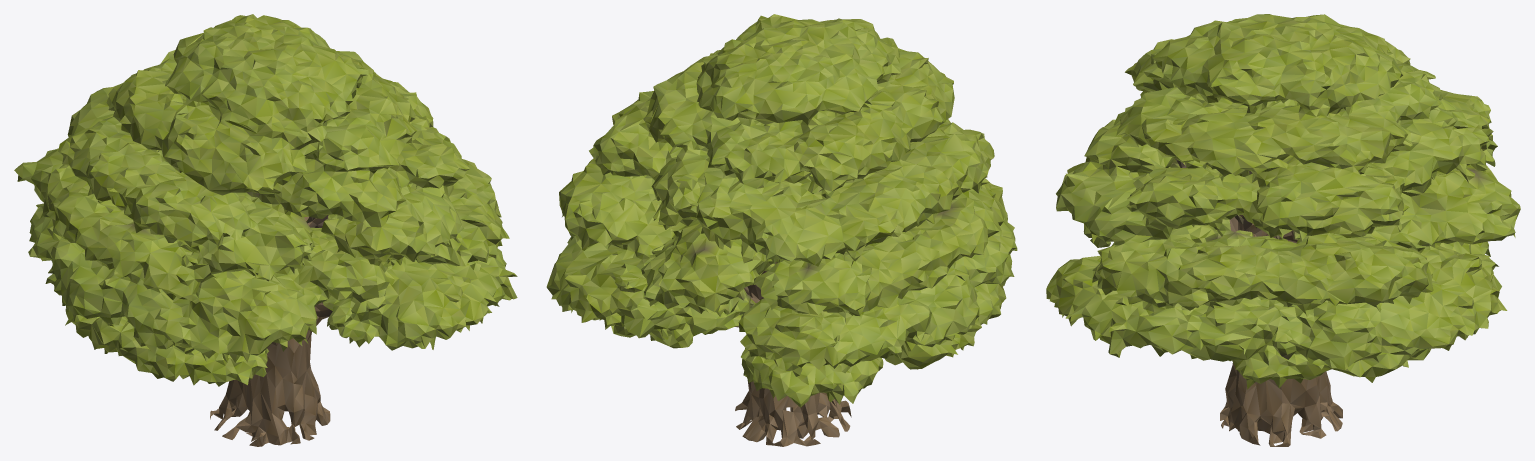
The model's file is hickory_tree.glb.
The picture shows the model from 3 angles, left to right: view 1: azimuth 30°, elevation 25°; view 2: azimuth 150°, elevation 25°; view 3: azimuth 270°, elevation 25°; orthographic projection. The views are drawn at different scales.
Parts seen in each view (by area): view 1: world; view 2: world; view 3: world.
Boxes of the visible parts, x1,y1,x2,y2 form: world: (14, 14, 517, 446); world: (546, 14, 1017, 446); world: (1046, 14, 1520, 446).
Size of the model in its own units: 4.38 by 4.2 by 4.63.
